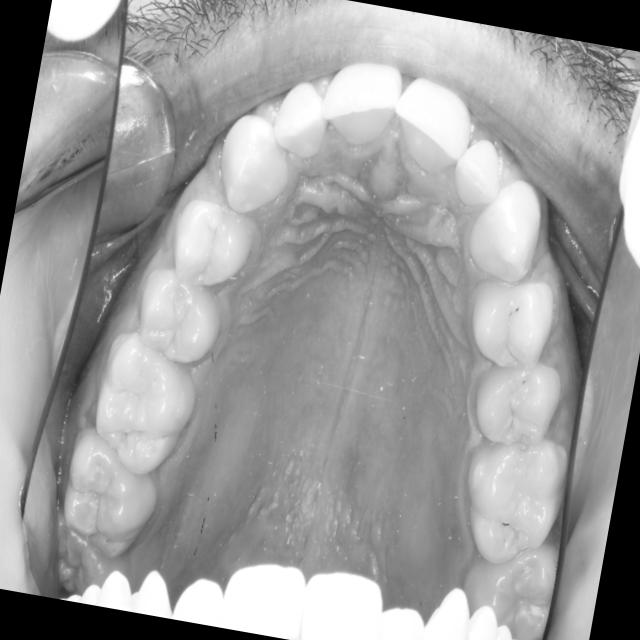tooth: (445, 414, 583, 580), (79, 320, 212, 483), (47, 416, 173, 572), (123, 248, 245, 379), (378, 57, 485, 198), (454, 159, 555, 294), (458, 260, 569, 378), (450, 531, 568, 640), (207, 95, 304, 224), (463, 342, 569, 459), (34, 497, 143, 609), (313, 35, 411, 157), (156, 188, 262, 300), (265, 73, 337, 170), (444, 127, 511, 219)
